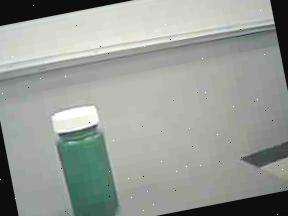Bottle C: (34, 90, 142, 216)
